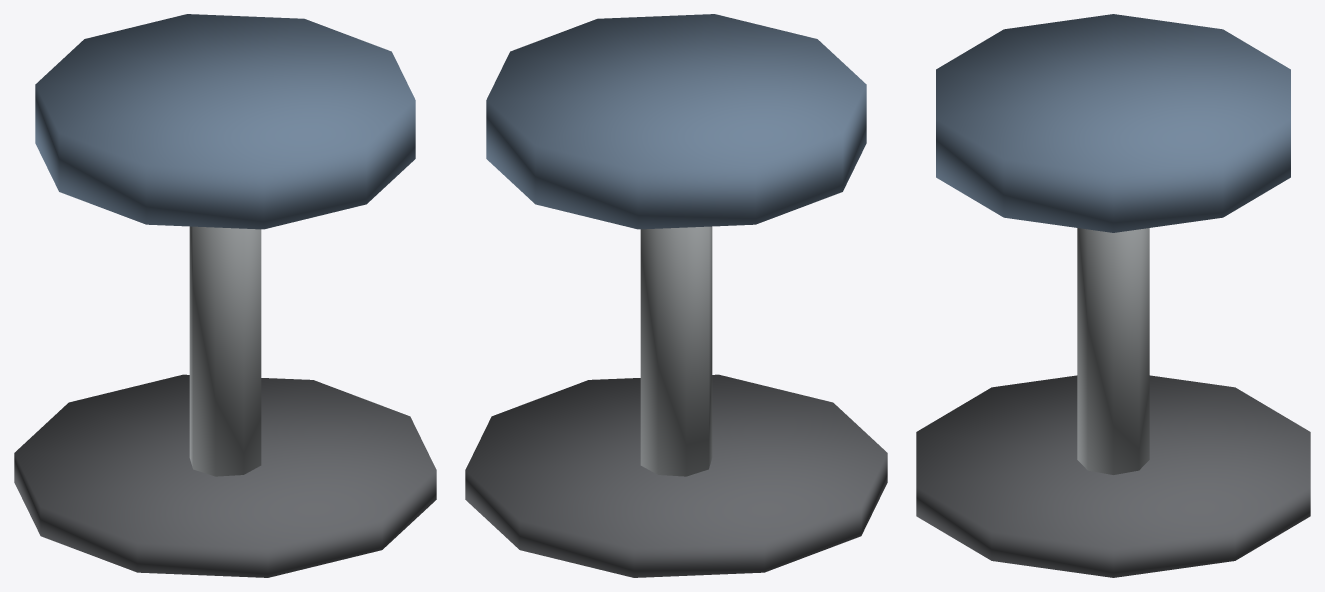
Rendered from lab_stool__squat.glb.
3 views of the same model, side by side, from view 1: azimuth 30°, elevation 25°; view 2: azimuth 150°, elevation 25°; view 3: azimuth 270°, elevation 25° (orthographic).
Parts seen in each view (by area): view 1: world; view 2: world; view 3: world.
Part boxes in pixels (<box>): world: <box>14,14,436,577</box>; world: <box>465,14,887,577</box>; world: <box>916,14,1310,577</box>.
Size of the model in its own units: 0.44 by 0.4536 by 0.4109.
